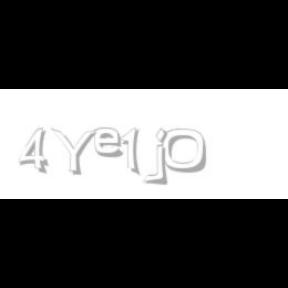1: (119, 128, 141, 176)
4: (17, 128, 48, 174)
O: (162, 128, 208, 174)
Y: (50, 128, 96, 176)
e: (94, 128, 128, 158)
j: (153, 128, 182, 186)
